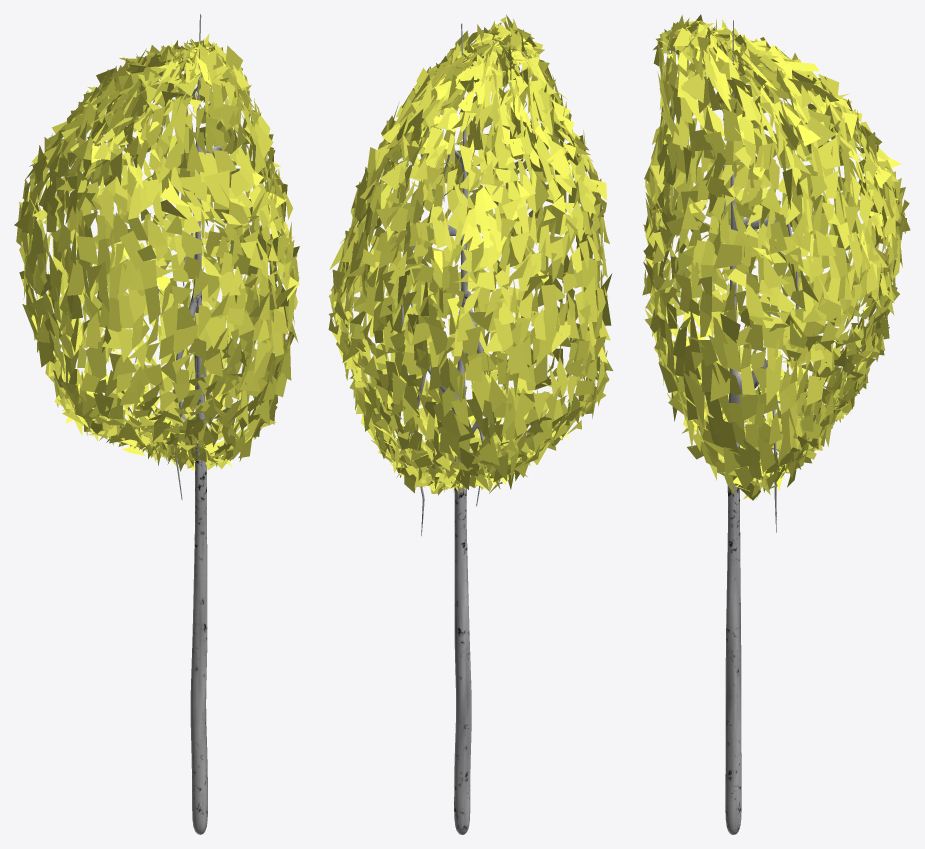
The model's file is Leaves64.002.fbx.
3 views of the same model, side by side, from view 1: azimuth 30°, elevation 25°; view 2: azimuth 150°, elevation 25°; view 3: azimuth 270°, elevation 25° (orthographic).
Parts seen in each view (by area): view 1: Leaves64.002; view 2: Leaves64.002; view 3: Leaves64.002.
Boxes of the visible parts, <box> form: Leaves64.002: <box>14,14,299,834</box>; Leaves64.002: <box>328,14,612,834</box>; Leaves64.002: <box>642,14,910,834</box>.
Size of the model in its own units: 795 by 2574 by 768.
Materials: 2 (1 with a texture image).
